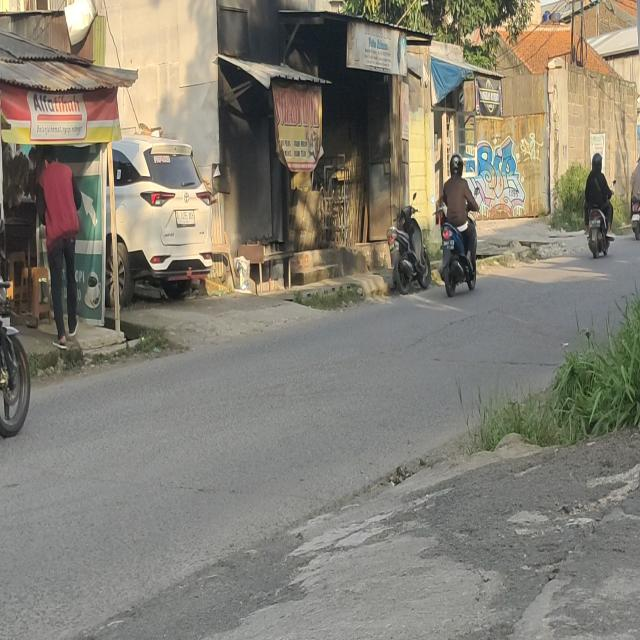helmet: (450, 151, 464, 175), (592, 153, 602, 171)
